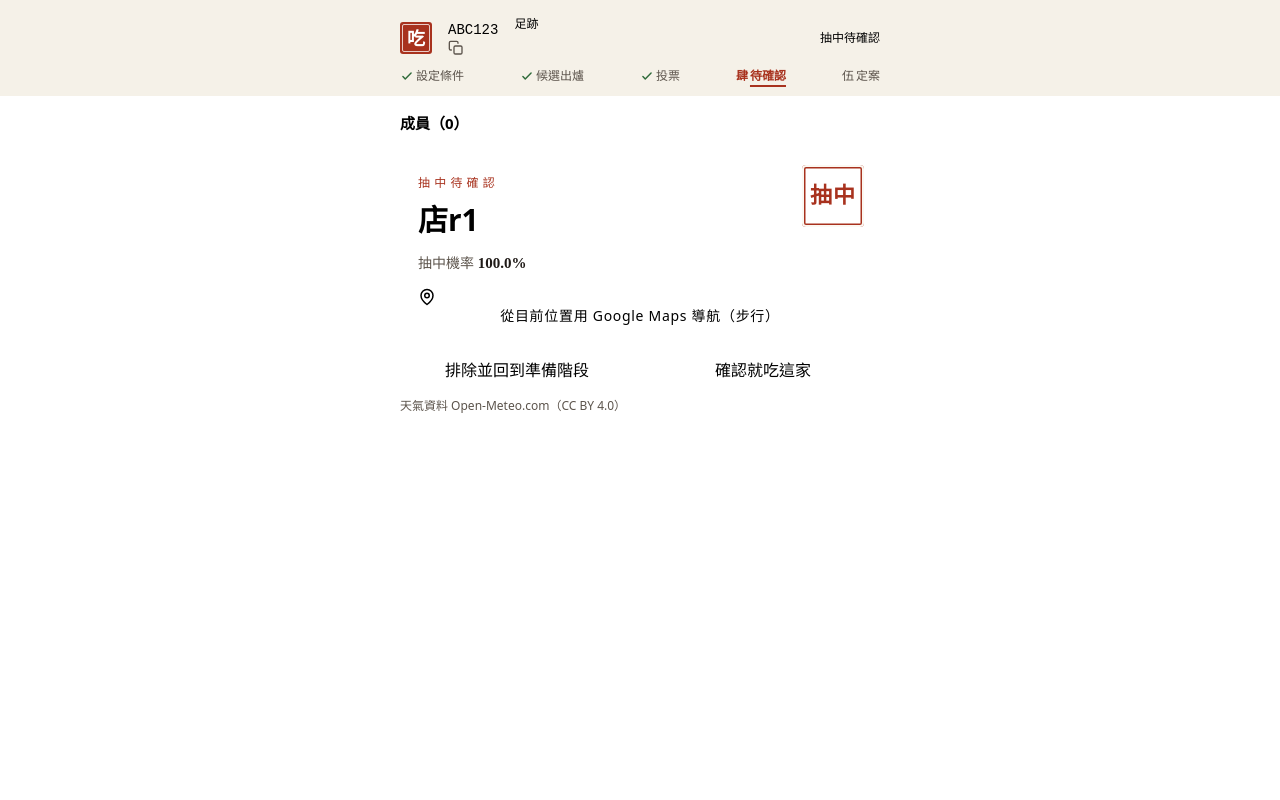
RoomPage 抽選與待確認 › 只剩抽中的一家：重轉改成「排除並回到準備階段」，先開確認框，確定才送
Click the button "排除並回到準備階段". click: (517, 370)
box: [400, 358, 634, 382]
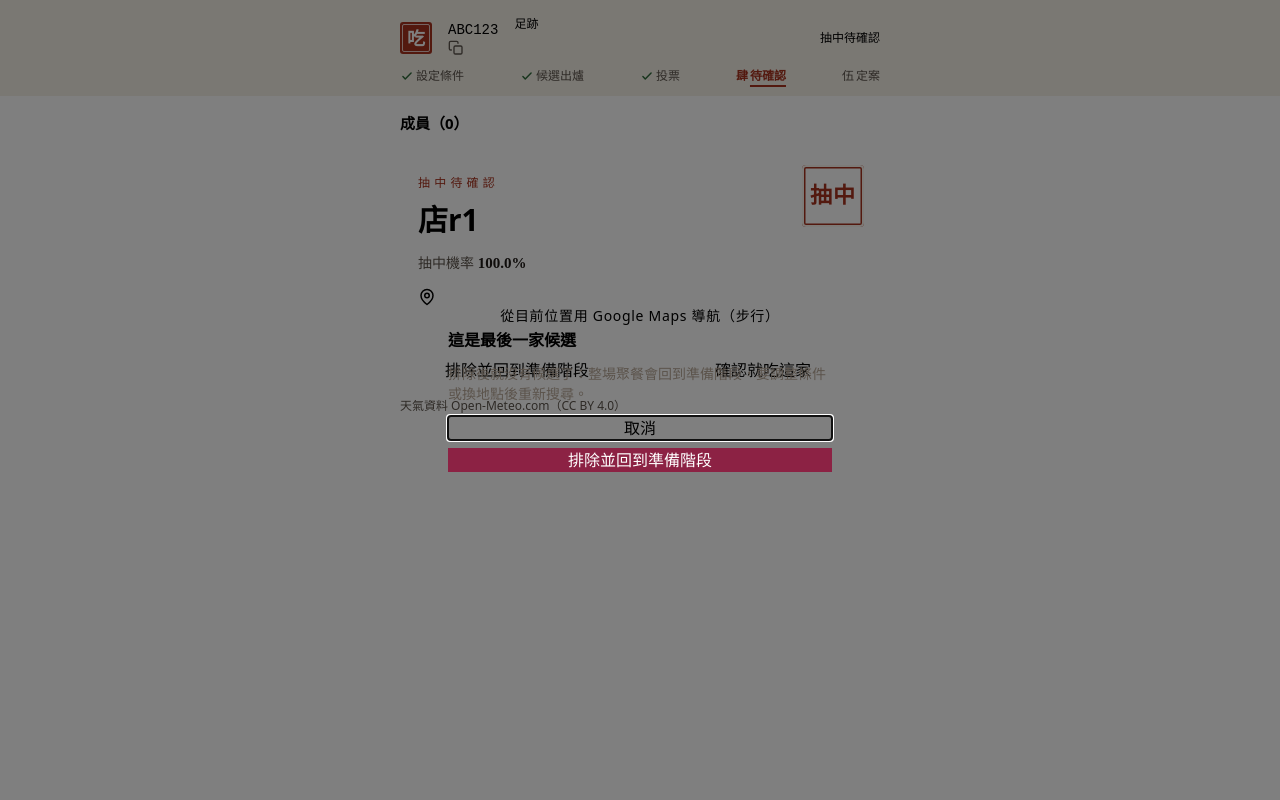
Expected: the heading "這是最後一家候選" is shown, [448, 329, 576, 351]
Expected: the dialog shows "排除後就沒有候選了：整場聚餐會回到準備階段", [448, 364, 826, 403]
Click the button "排除並回到準備階段". click: (640, 460)
box: [448, 448, 832, 472]
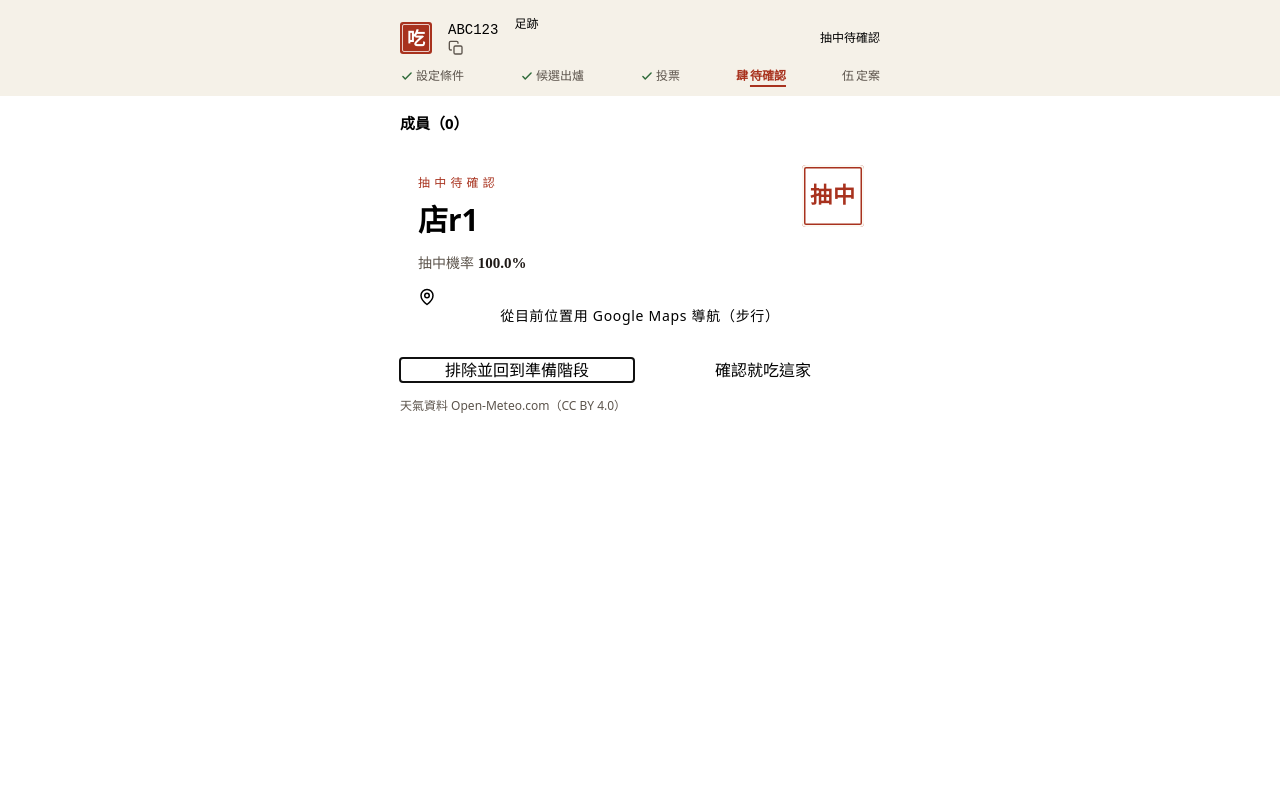
Expected: the dialog is gone
